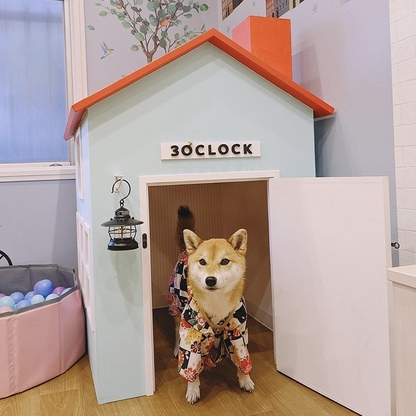shiba: (159, 200, 263, 403)
